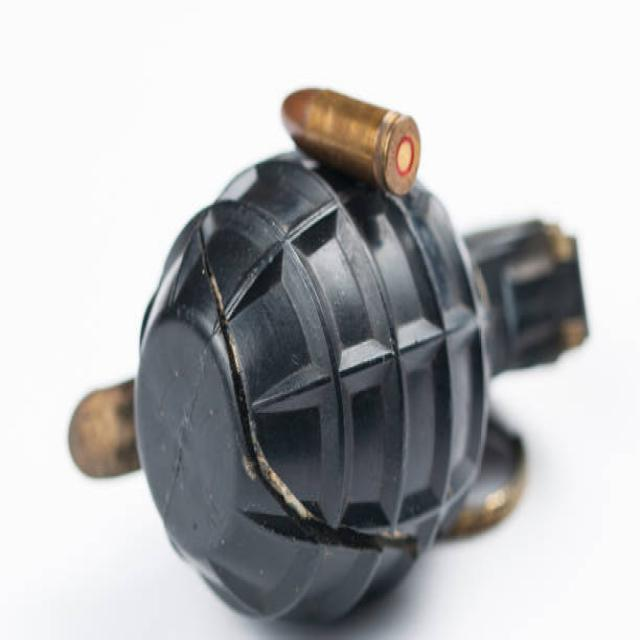grenade: (127, 125, 597, 640)
